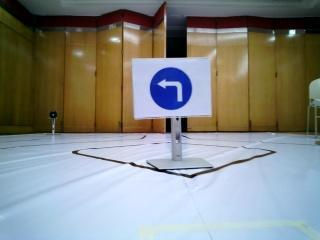left: (139, 60, 207, 118)
